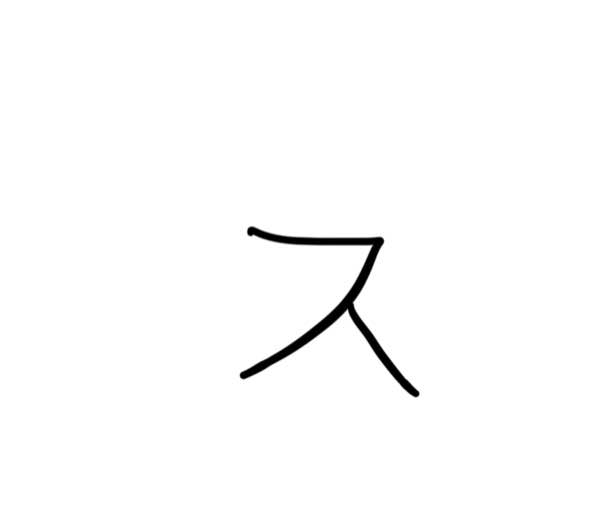su: (215, 214, 436, 408)
